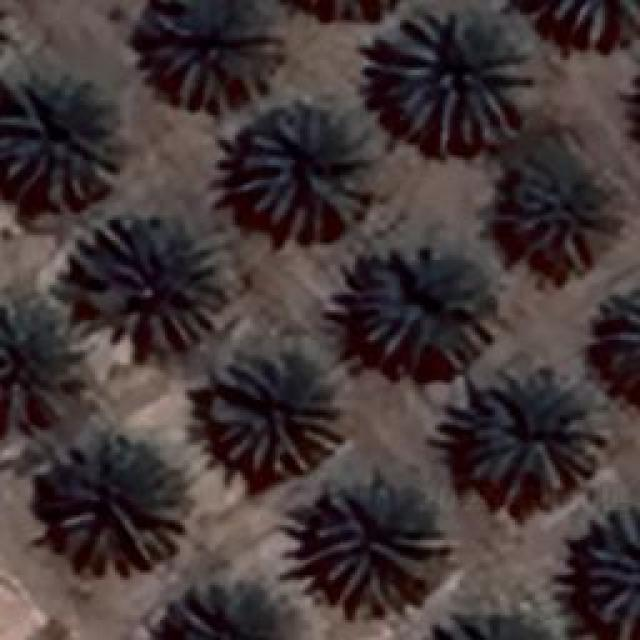PalmTree: (37, 94, 622, 344), (103, 24, 588, 94), (60, 218, 225, 358), (372, 8, 530, 150), (50, 432, 190, 572), (235, 108, 378, 242), (350, 240, 495, 372), (312, 478, 446, 610), (465, 370, 605, 492), (200, 360, 342, 478), (0, 72, 120, 206), (142, 0, 288, 110), (502, 142, 616, 270), (580, 502, 635, 638), (0, 322, 60, 426), (176, 585, 289, 640), (424, 612, 562, 640), (272, 0, 421, 19)
